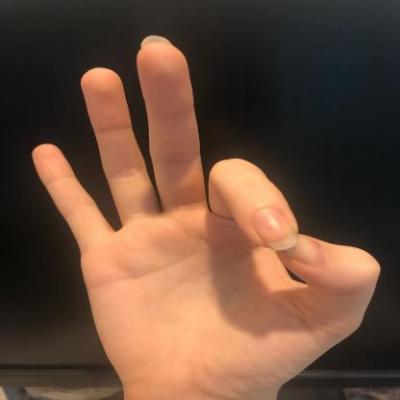hand: (27, 31, 385, 396)
